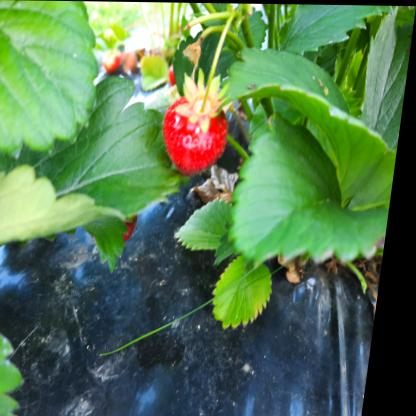ripe: (164, 97, 240, 171)
